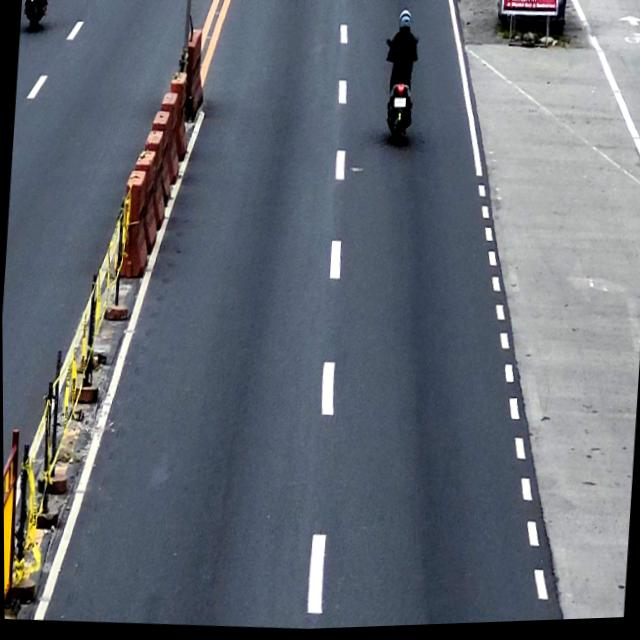License-Plate: (394, 99, 406, 111)
Motorcycle: (378, 35, 420, 148), (22, 0, 46, 36)
